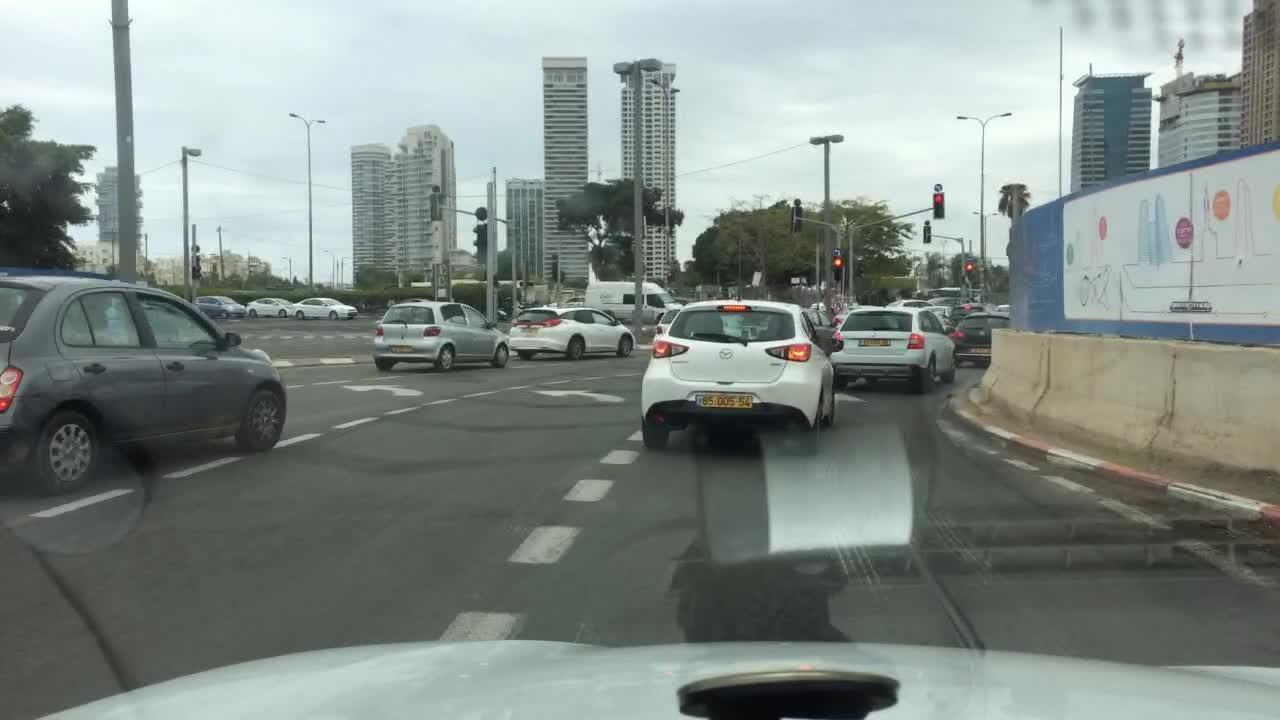Mazda: (716, 347, 734, 359)
